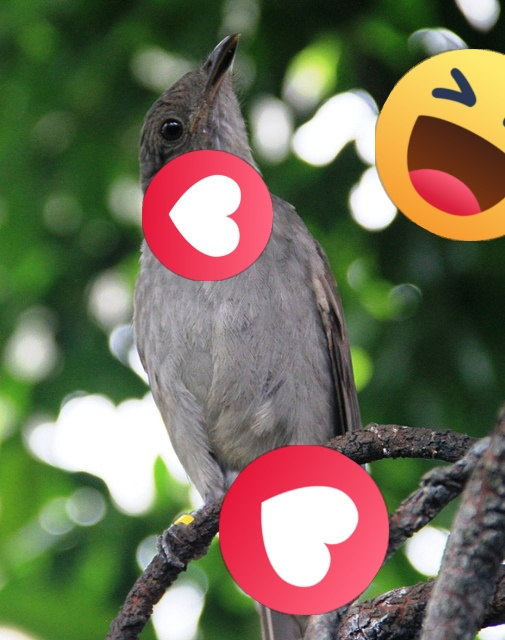haha: (375, 49, 505, 241)
love: (219, 445, 389, 615), (142, 150, 273, 281)
